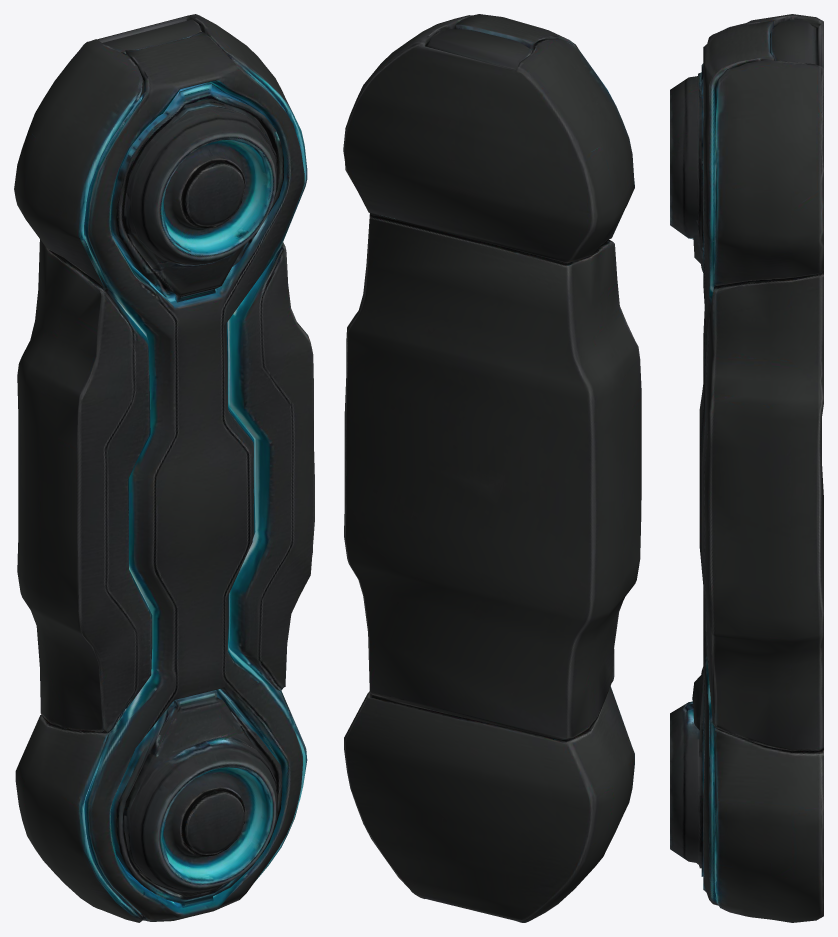
The picture shows the model from 3 angles, left to right: view 1: azimuth 30°, elevation 25°; view 2: azimuth 150°, elevation 25°; view 3: azimuth 270°, elevation 25°; orthographic projection.
Visible parts, largest first — view 1: tripo_node_430381c5-a6fe-4343-b3da-63a0af30bc35; view 2: tripo_node_430381c5-a6fe-4343-b3da-63a0af30bc35; view 3: tripo_node_430381c5-a6fe-4343-b3da-63a0af30bc35.
Boxes of the visible parts, left/top/right/bottom form: tripo_node_430381c5-a6fe-4343-b3da-63a0af30bc35: left=14, top=14, right=314, bottom=922; tripo_node_430381c5-a6fe-4343-b3da-63a0af30bc35: left=343, top=14, right=641, bottom=922; tripo_node_430381c5-a6fe-4343-b3da-63a0af30bc35: left=670, top=14, right=823, bottom=922.
Bounding box in the file's own units: 0.3184 × 0.998 × 0.1621.
1 material, 1 textured.
